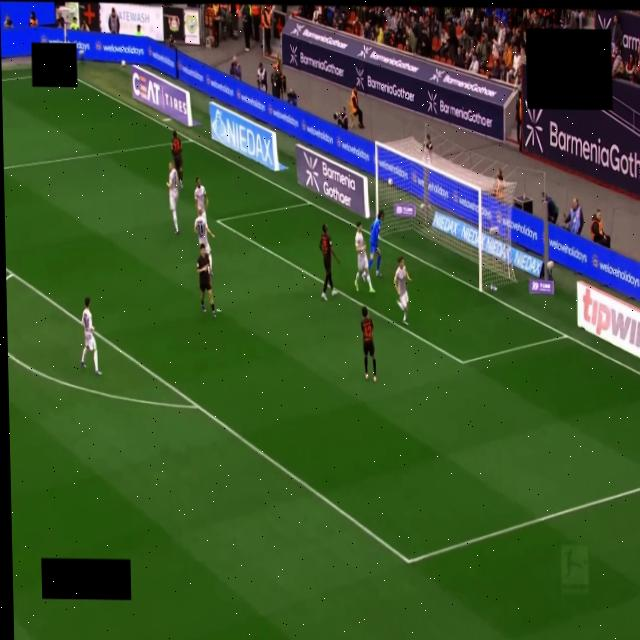player: (353, 221, 375, 293), (81, 297, 101, 375), (319, 224, 339, 300), (197, 244, 216, 316), (194, 208, 214, 275), (394, 257, 411, 325), (361, 307, 375, 381), (369, 211, 383, 277), (167, 162, 178, 235), (171, 131, 183, 189), (194, 178, 208, 220)
